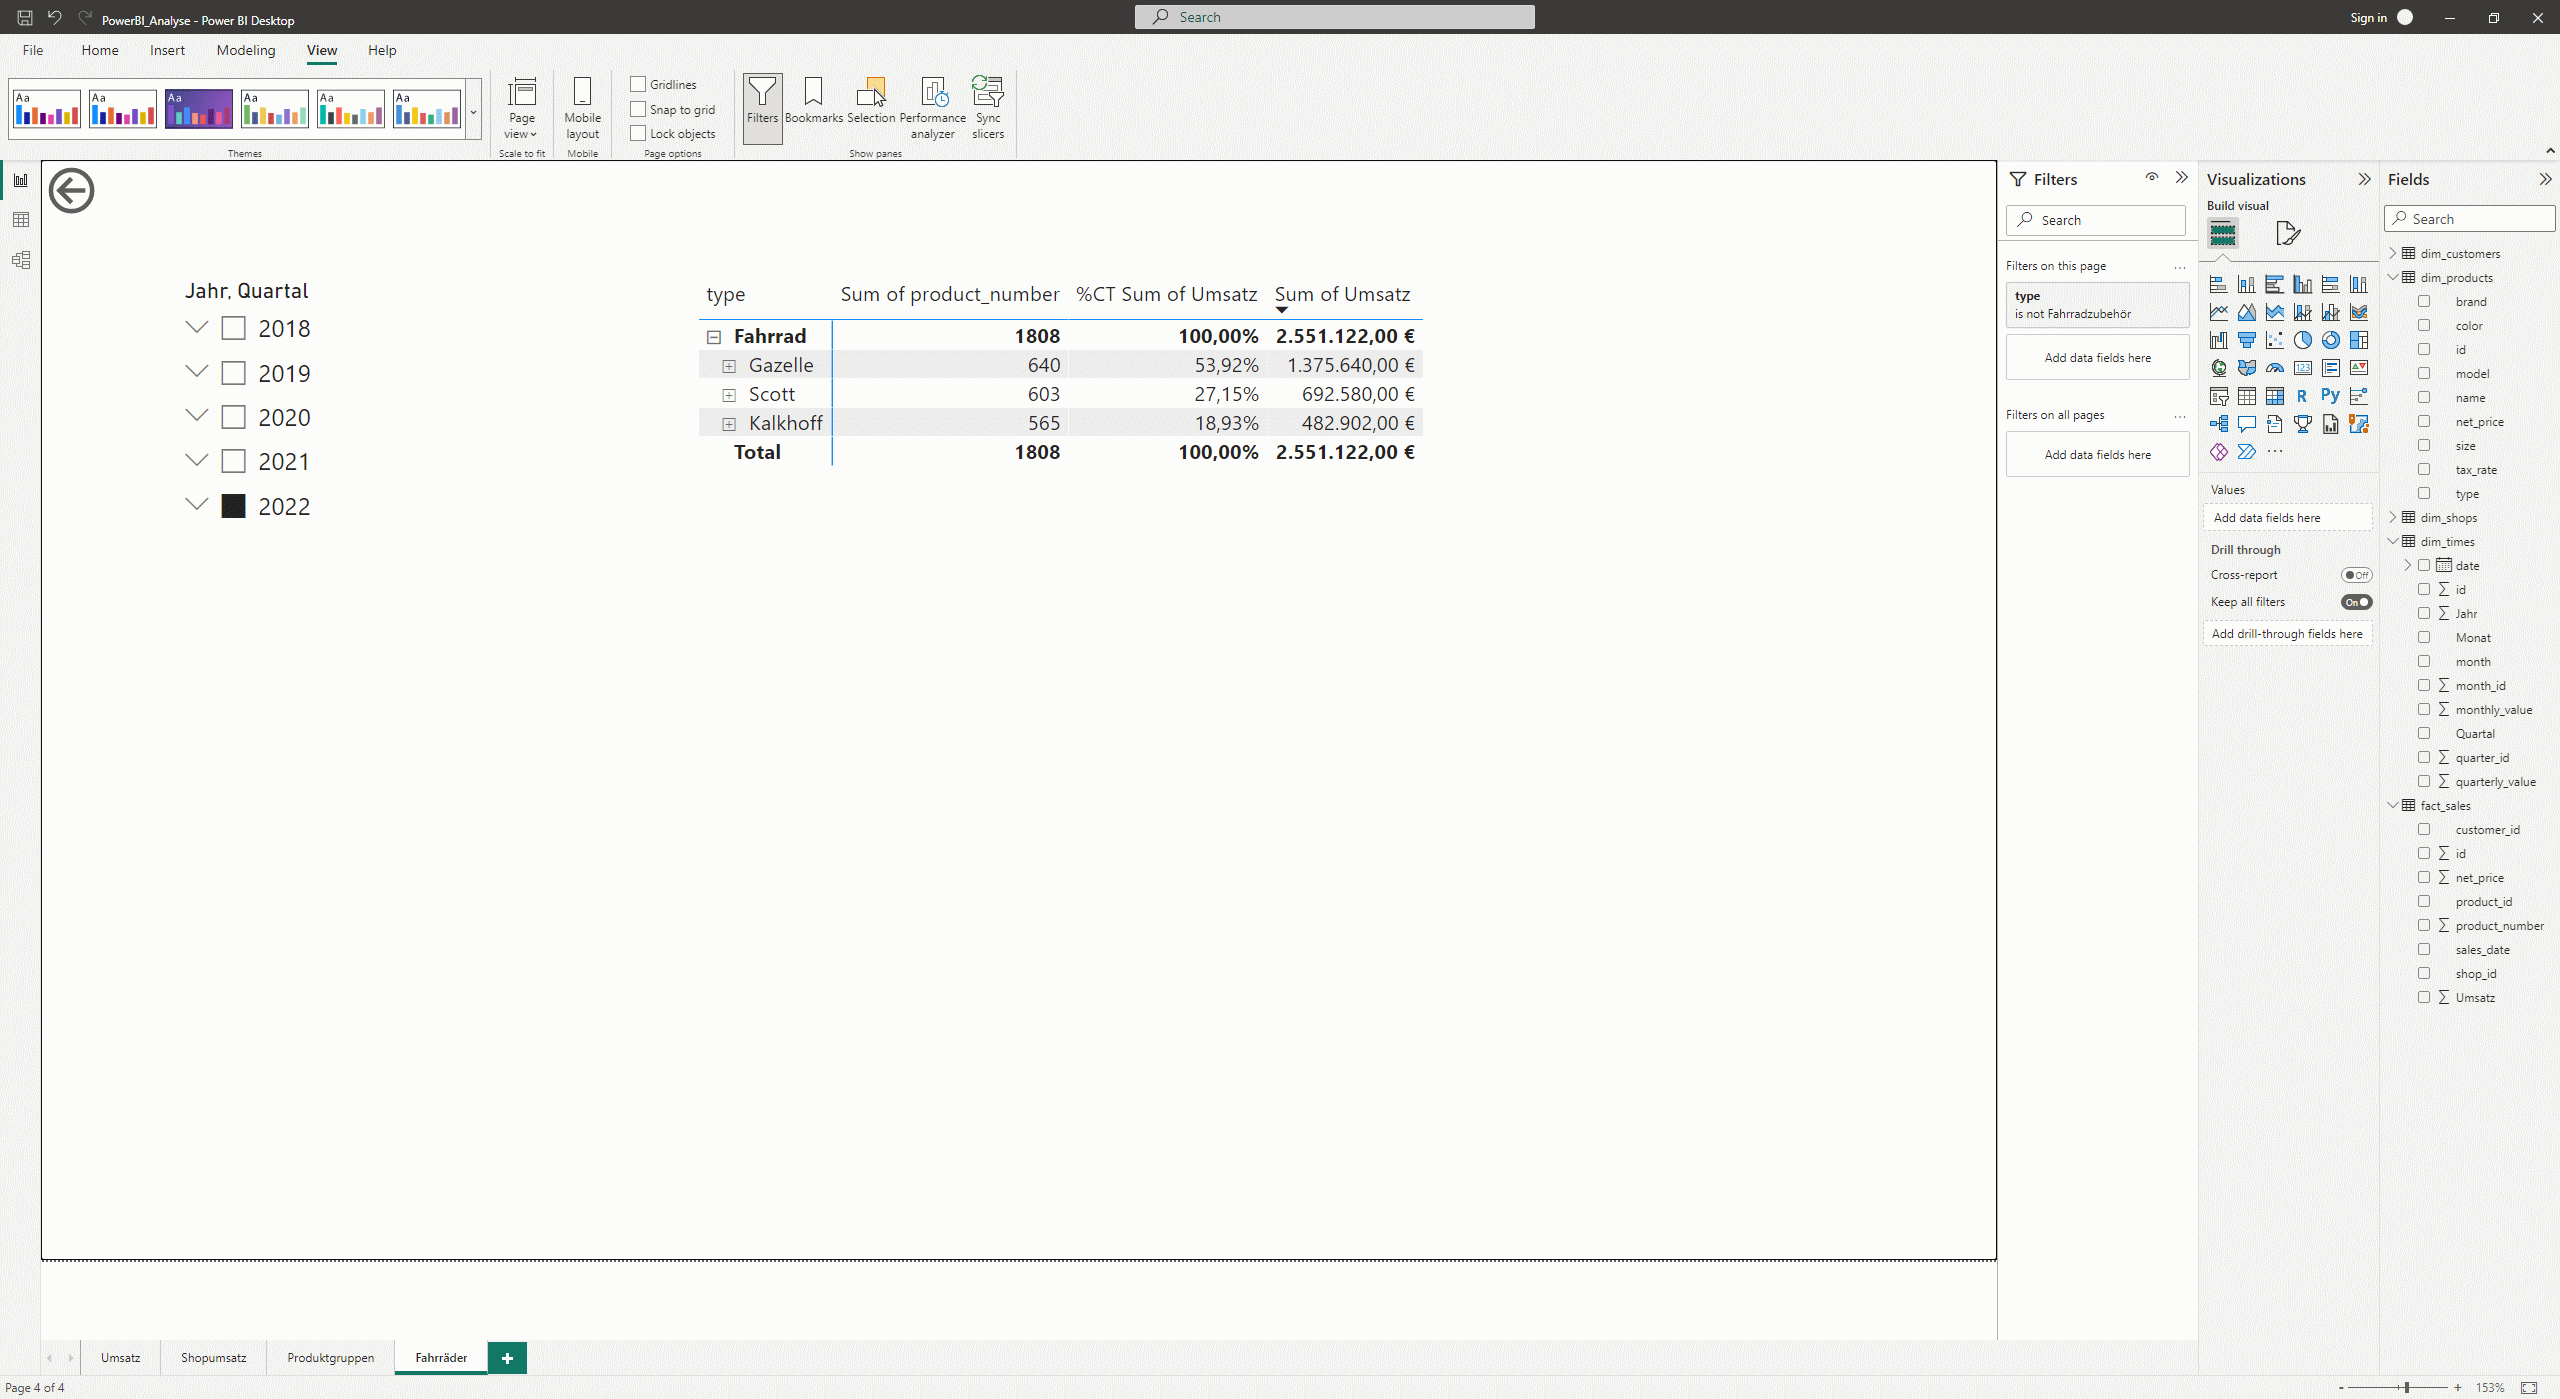

This screenshot's page, from the dashboard's own definition file:
{"tool":"powerbi","page":{"name":"Fahrräder","canvas":[1280,720],"ordinal":3},"visuals":[{"type":"pivotTable","fields":{"Rows":["dim_products.type","dim_products.brand","dim_products.color"],"Values":["Sum(fact_sales.product_number)","Divide(Sum(fact_sales.Umsatz), ScopedEval(Sum(fact_sales.Umsatz), [Role.Columns]))","Sum(fact_sales.Umsatz)"]},"box":[425.4,72,591.6,445],"z":0},{"type":"slicer","fields":{"Values":["dim_times.Jahr","dim_times.Quartal"]},"box":[81.1,72,300.4,505.2],"z":2000}]}

Visuals, with their boxes on the page's 1280x720 design canvas (x1, y1, x2, y2). These are canvas units, not pixel positions in the 2560x1399 screenshot, which may show the page scaled, cropped or inside an application window:
pivotTable - dim_products.type x dim_products.brand: [x1=425, y1=72, x2=1017, y2=517]
slicer - dim_times.Jahr x dim_times.Quartal: [x1=81, y1=72, x2=382, y2=577]
